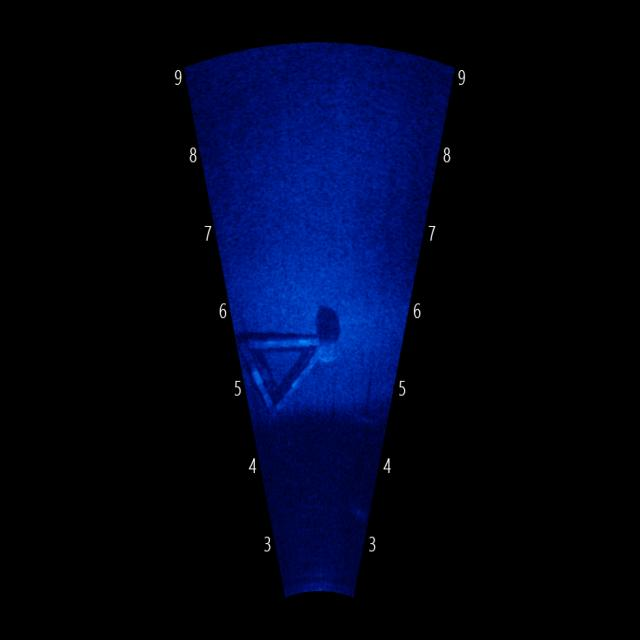triangle: (238, 320, 334, 420)
